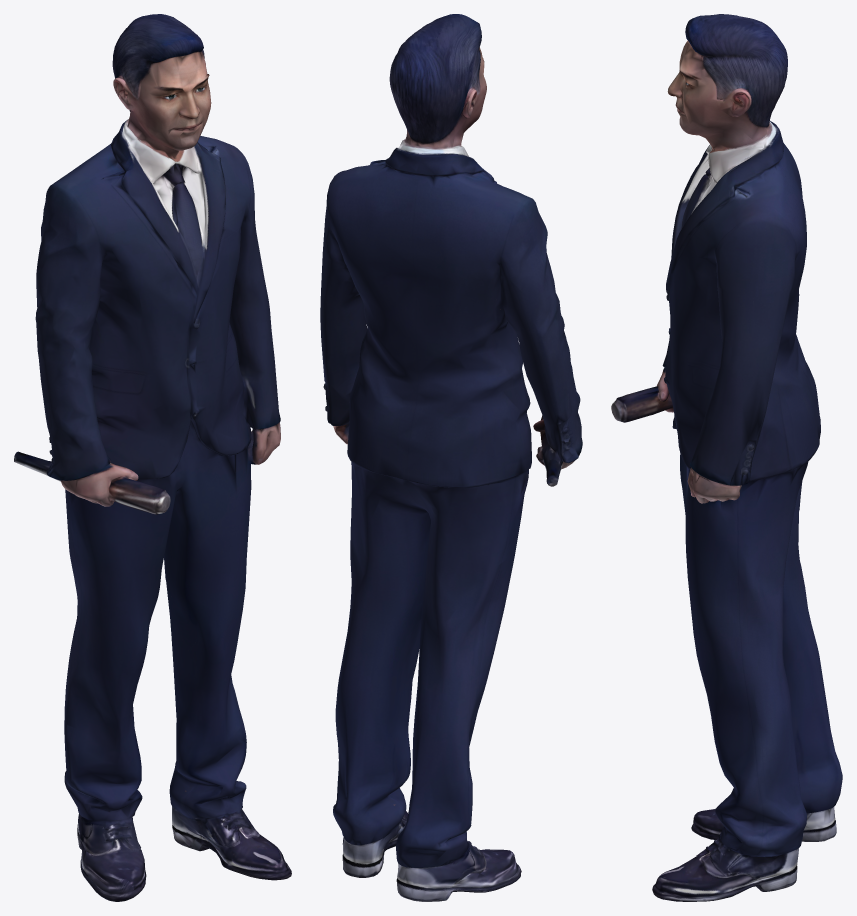
File: tao.glb
3 views of the same model, side by side, from view 1: azimuth 30°, elevation 25°; view 2: azimuth 150°, elevation 25°; view 3: azimuth 270°, elevation 25° (orthographic).
Parts seen in each view (by area): view 1: tao; view 2: tao; view 3: tao.
Boxes of the visible parts, box(x1,y1,x2,y2) form: tao: box(14, 14, 291, 901); tao: box(320, 14, 582, 901); tao: box(611, 14, 842, 901).
Bounding box in the file's own units: 0.2916 × 0.9785 × 0.2447.
1 material, 1 textured.
